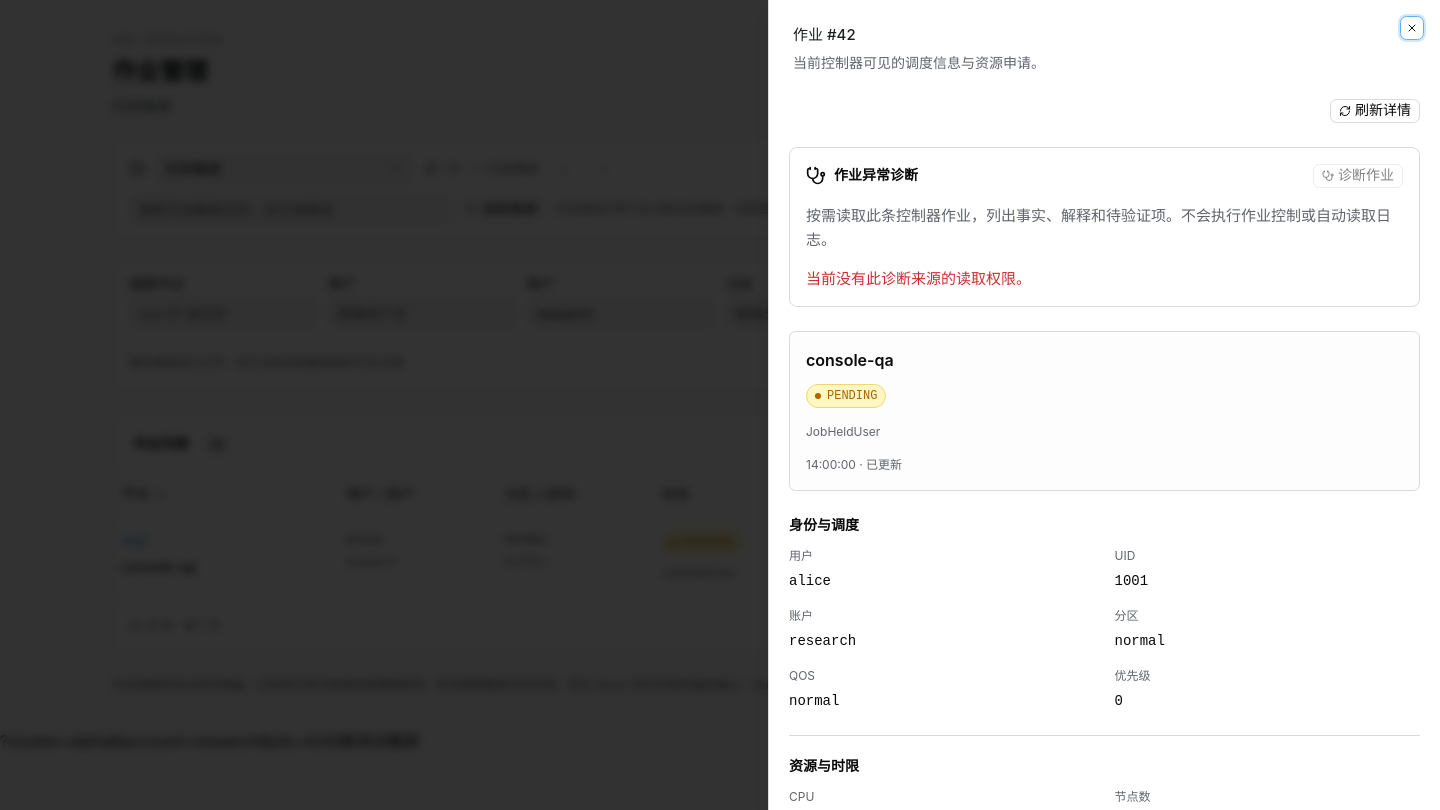
Test: 详情 URL 展示资源、QOS、状态原因与时间，关闭保留筛选
Expected: the heading "作业 #42" is shown, [793, 25, 856, 44]
What coordinates should you click on to do the following:
click the button named "Close"
I would click on:
 (1412, 28)
Its box is [1400, 16, 1424, 40].
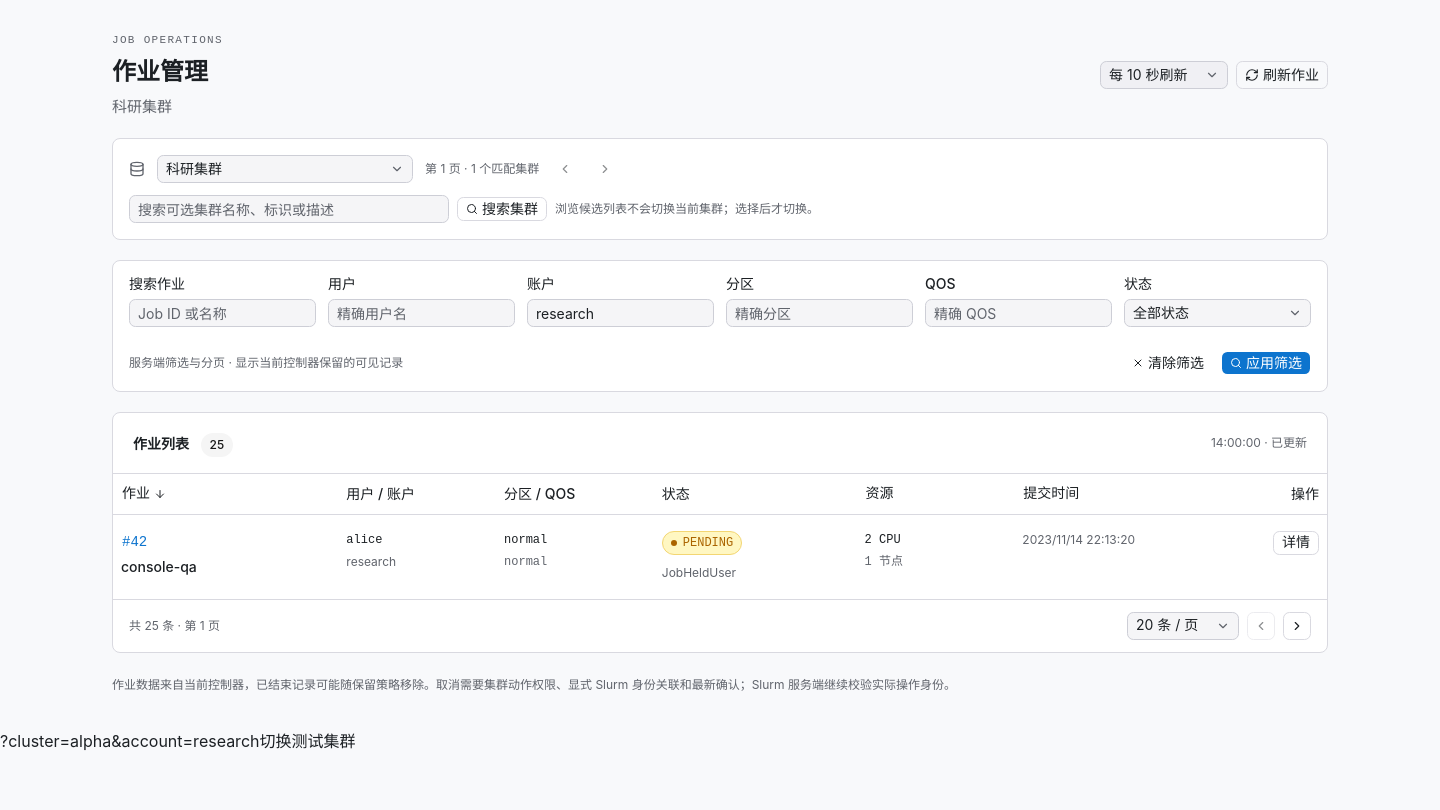
Expected: the text named "当前查询" shows "account=research", [0, 730, 260, 750]
Expected: the text named "当前查询" no longer shows "job=", [0, 730, 260, 750]
